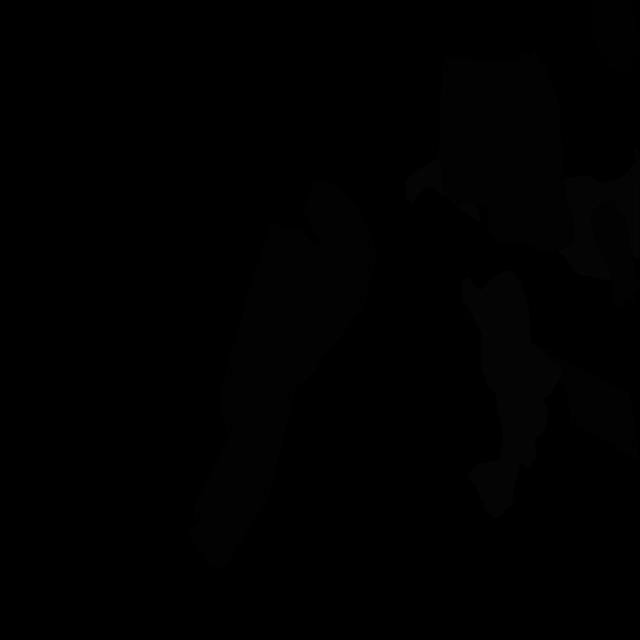cardboard: (187, 181, 376, 570), (438, 47, 575, 253), (532, 344, 640, 460), (590, 201, 640, 311)
rigid_plastic: (590, 0, 638, 74)
soft_plastic: (460, 270, 562, 520), (557, 147, 640, 284), (405, 159, 446, 206), (456, 204, 480, 224)
